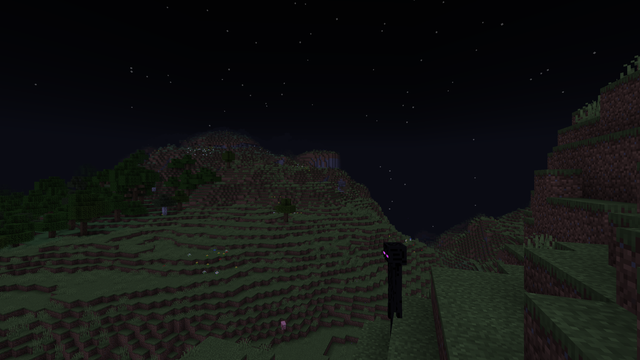cochons: (279, 320, 286, 329)
endermens: (382, 238, 405, 349)
